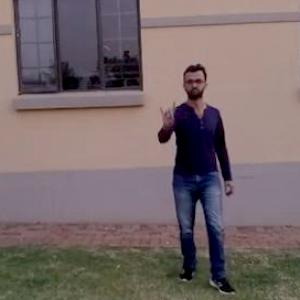takeoff-hand: (149, 96, 183, 133)
